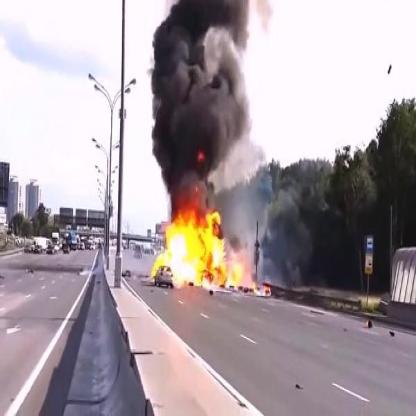fire: (151, 208, 228, 293), (231, 259, 249, 292), (262, 281, 273, 296)
